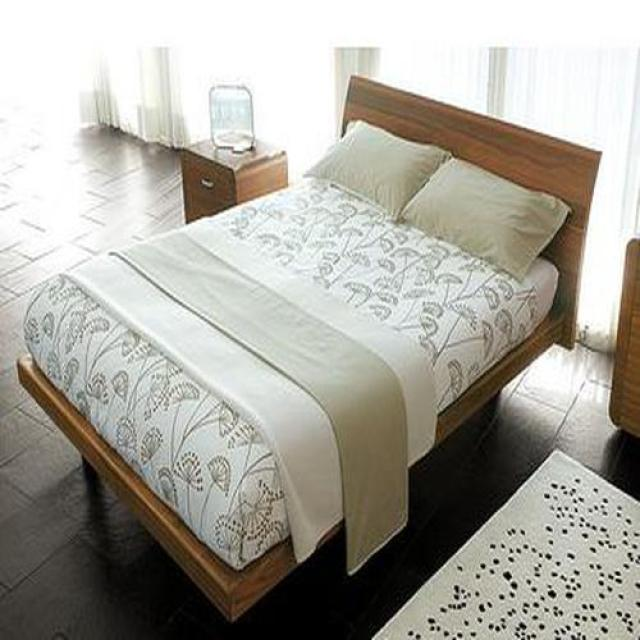bed: (15, 76, 600, 626)
